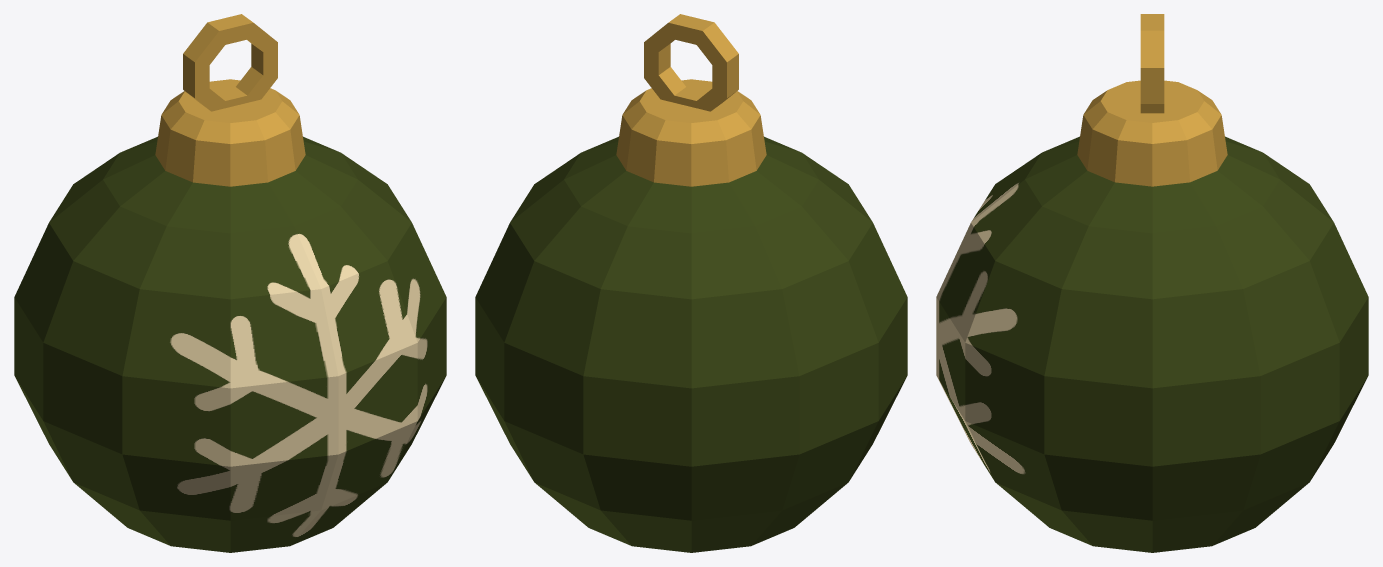
File: 24_Green_Snowflake.glb
3 views of the same model, side by side, from view 1: azimuth 30°, elevation 25°; view 2: azimuth 150°, elevation 25°; view 3: azimuth 270°, elevation 25° (orthographic).
Parts seen in each view (by area): view 1: Green_Snowflake, Gold hardware.001; view 2: Green_Snowflake, Gold hardware.001; view 3: Green_Snowflake, Gold hardware.001.
Part boxes in pixels (x1,y1,x2,y2): Green_Snowflake: (14, 136, 446, 552); Gold hardware.001: (155, 14, 305, 186); Green_Snowflake: (475, 136, 907, 552); Gold hardware.001: (616, 14, 766, 186); Green_Snowflake: (936, 136, 1368, 552); Gold hardware.001: (1077, 14, 1227, 186).
Size of the model in its own units: 2 by 2.6 by 2.
2 materials, 1 textured.
